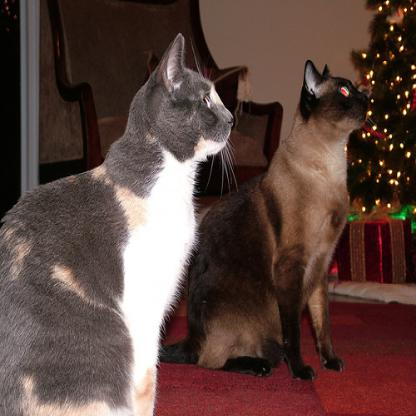cat: (0, 32, 235, 415), (157, 58, 368, 380)
chair: (37, 0, 284, 194)
